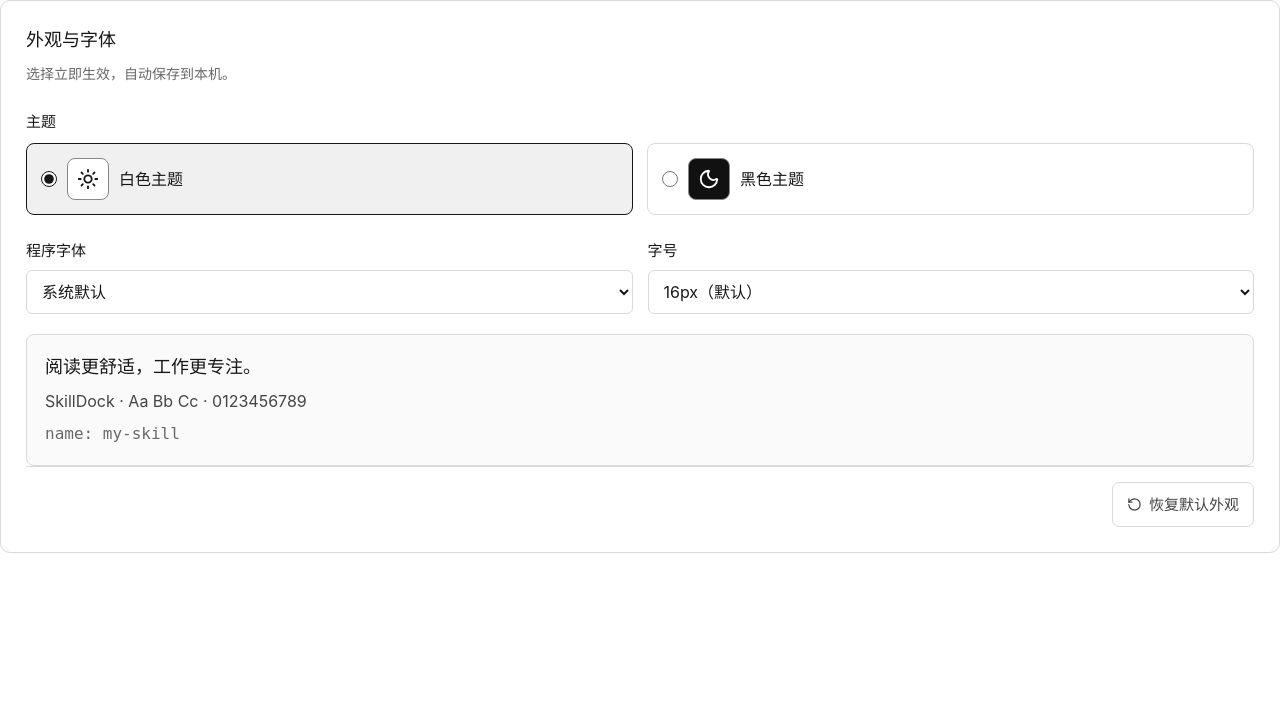
Test: recovers from damaged saved preferences and can reset a custom font
Expected: the radio button labelled "白色主题" is checked, [41,171,57,187]
Select "自定义字体" in the dropdown labelled "程序字体" at coordinates (329, 292), box [26,270,632,314]
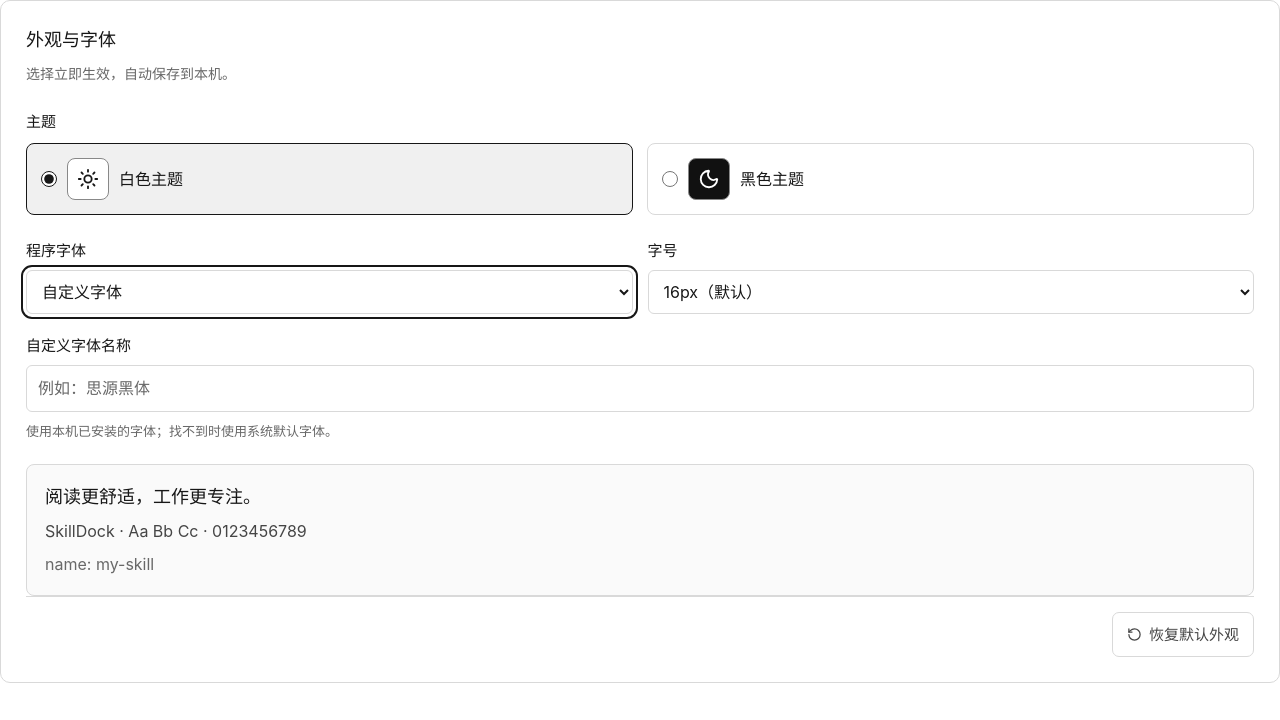
Type "思源黑体" into the field labelled "自定义字体名称" at coordinates (640, 389), box [26,365,1254,412]
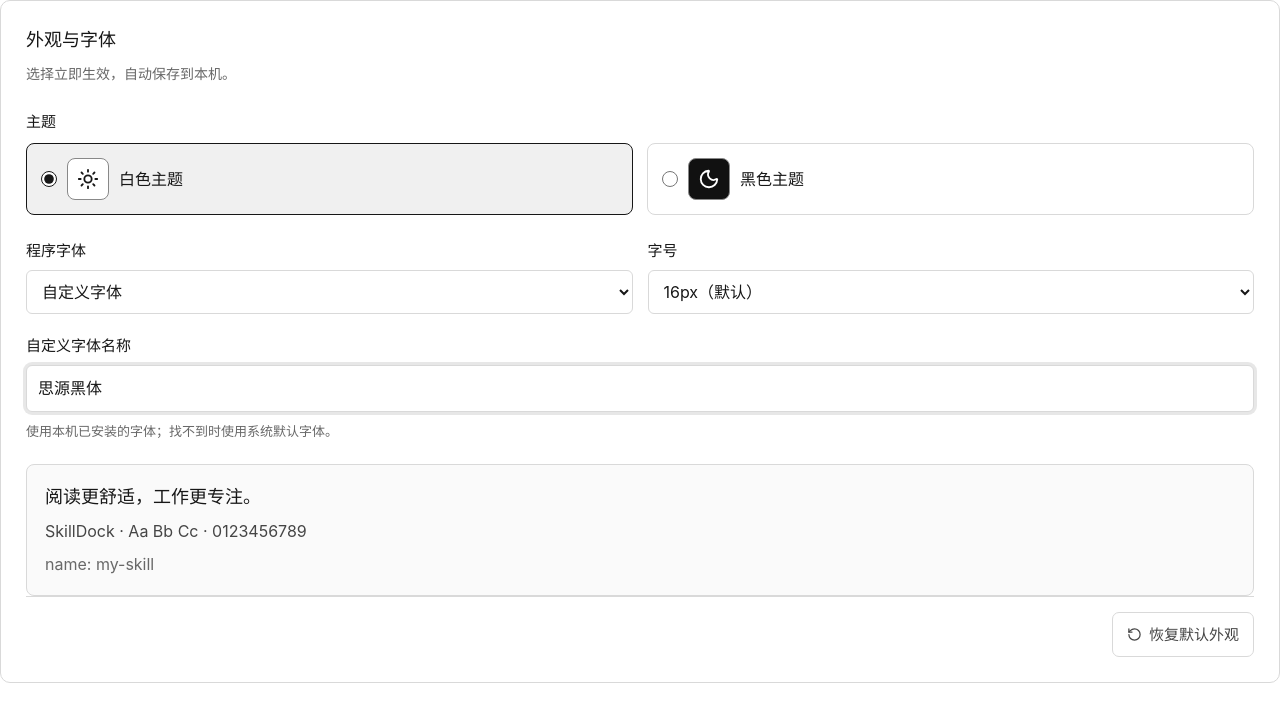
Click the button "恢复默认外观" at coordinates (1183, 634), box [1112,612,1254,657]
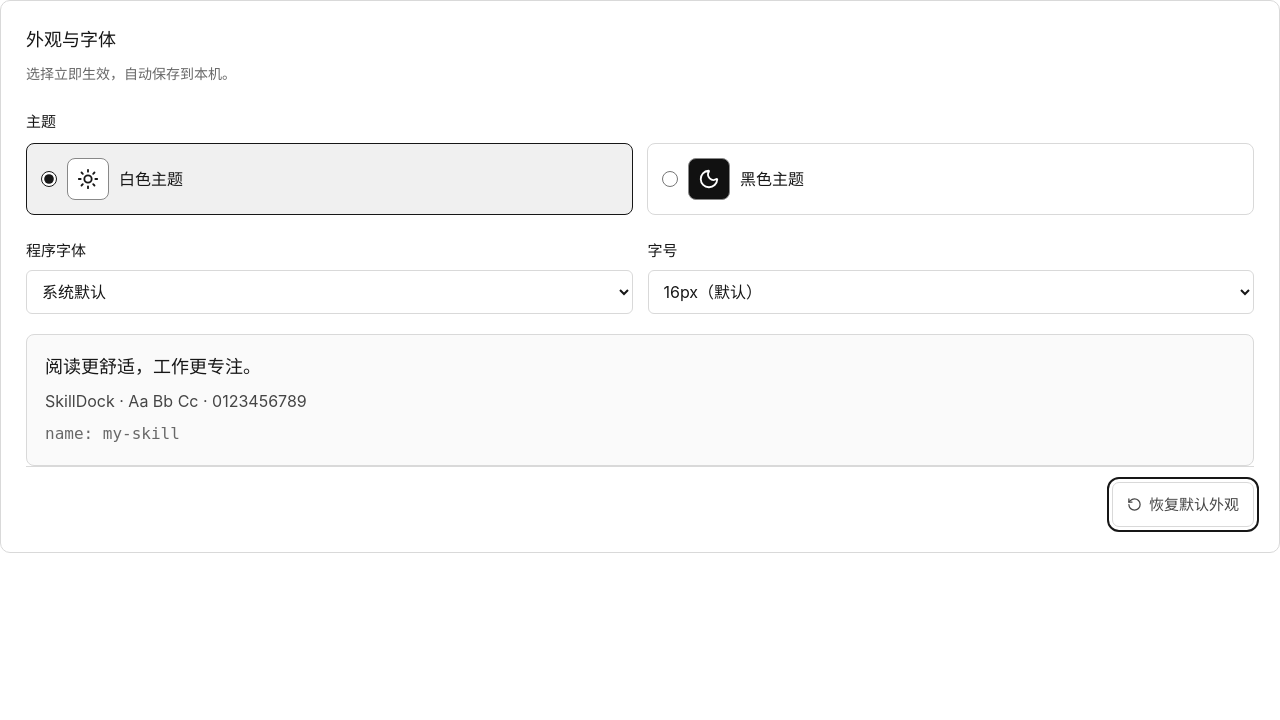
Expected: the dropdown labelled "字号" shows "16px（默认）", [648,270,1254,314]
Expected: the label labelled "自定义字体名称" is gone
